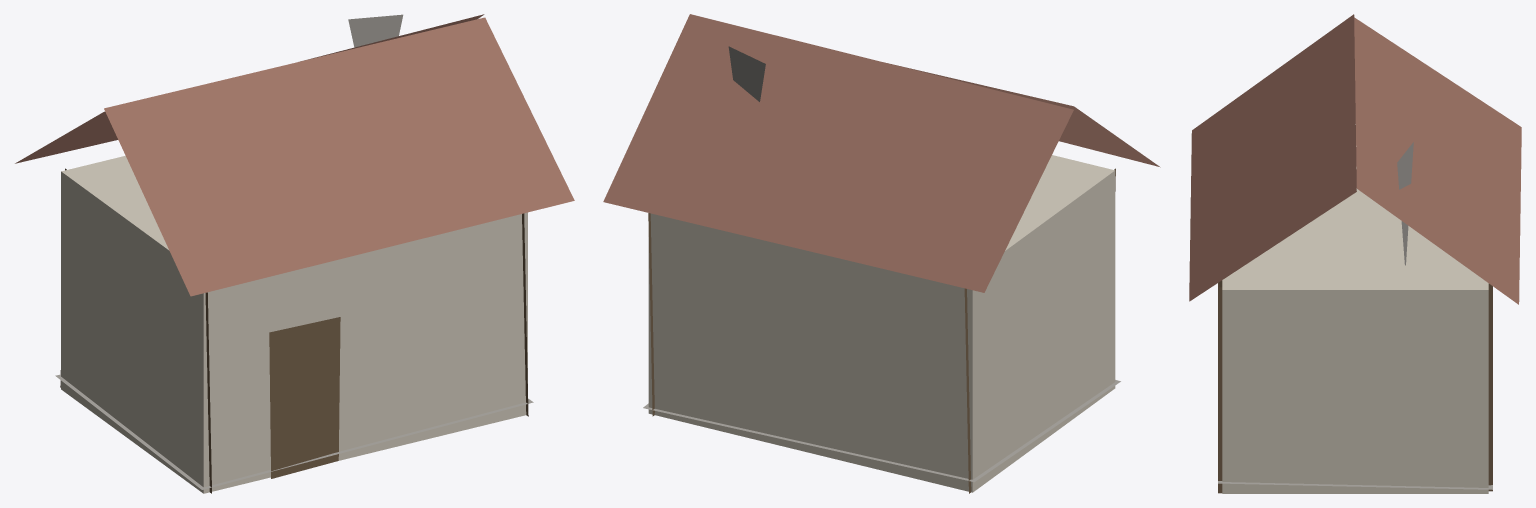
File: house_a_lod.glb
The picture shows the model from 3 angles, left to right: view 1: azimuth 30°, elevation 25°; view 2: azimuth 150°, elevation 25°; view 3: azimuth 270°, elevation 25°; orthographic projection. The views are drawn at different scales.
Visible parts, largest first — view 1: house_a_lod; view 2: house_a_lod; view 3: house_a_lod.
Part boxes in pixels (box(x1,y1,x2,y2)): house_a_lod: box(15, 14, 574, 493); house_a_lod: box(603, 14, 1160, 493); house_a_lod: box(1189, 14, 1521, 493).
Size of the model in its own units: 4.96 by 4.22 by 3.99.
